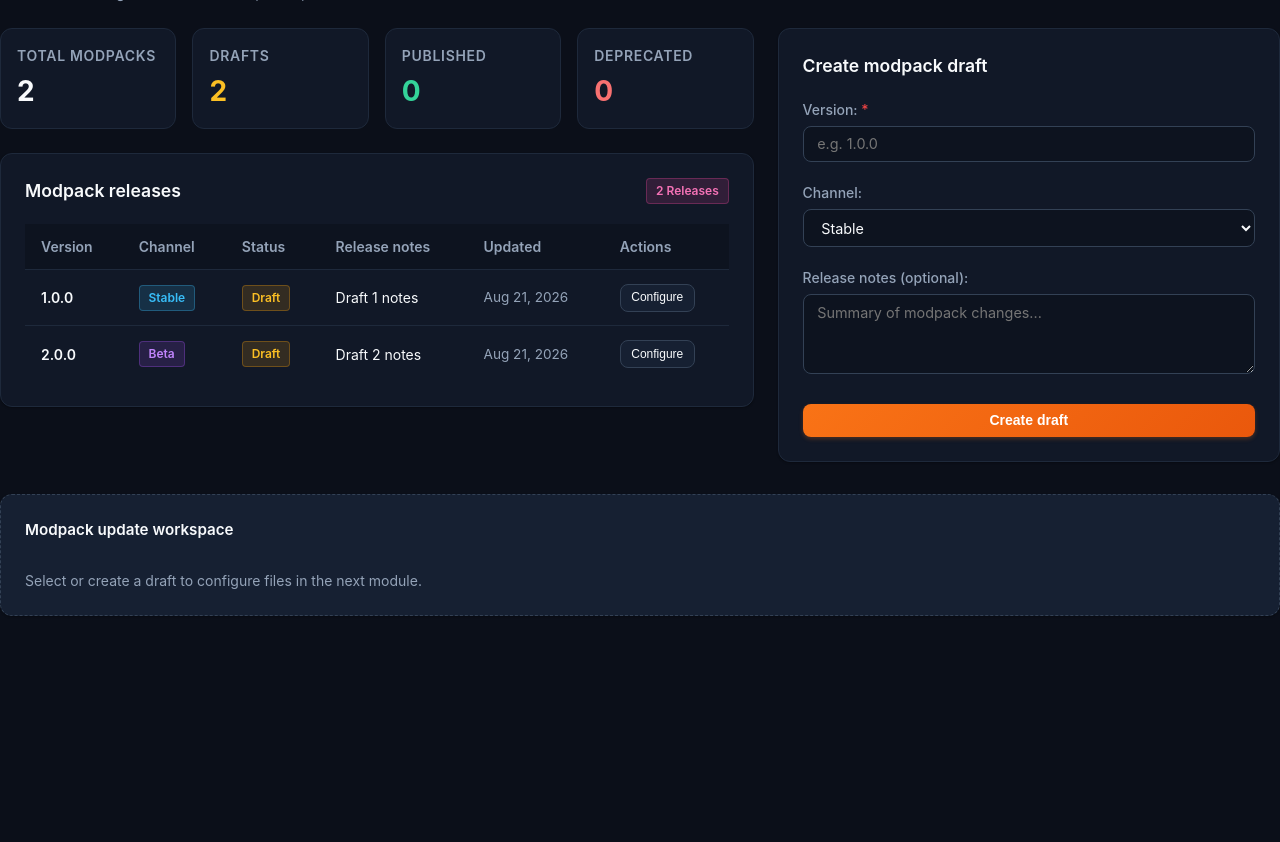
Test: Modpack Publish & GitHub Integration UI Functional Tests (Module 3B-2) › 9. Late response from another release does not alter currently selected release
Expected: the button with test id "configure-modpack-modpack-draft-2" is shown, top-left (620, 340), bottom-right (695, 368)
Select Draft 1 (validation will be pending)
Click the button with test id "configure-modpack-modpack-draft-1".
click(657, 298)  # box top-left (620, 284), bottom-right (695, 312)
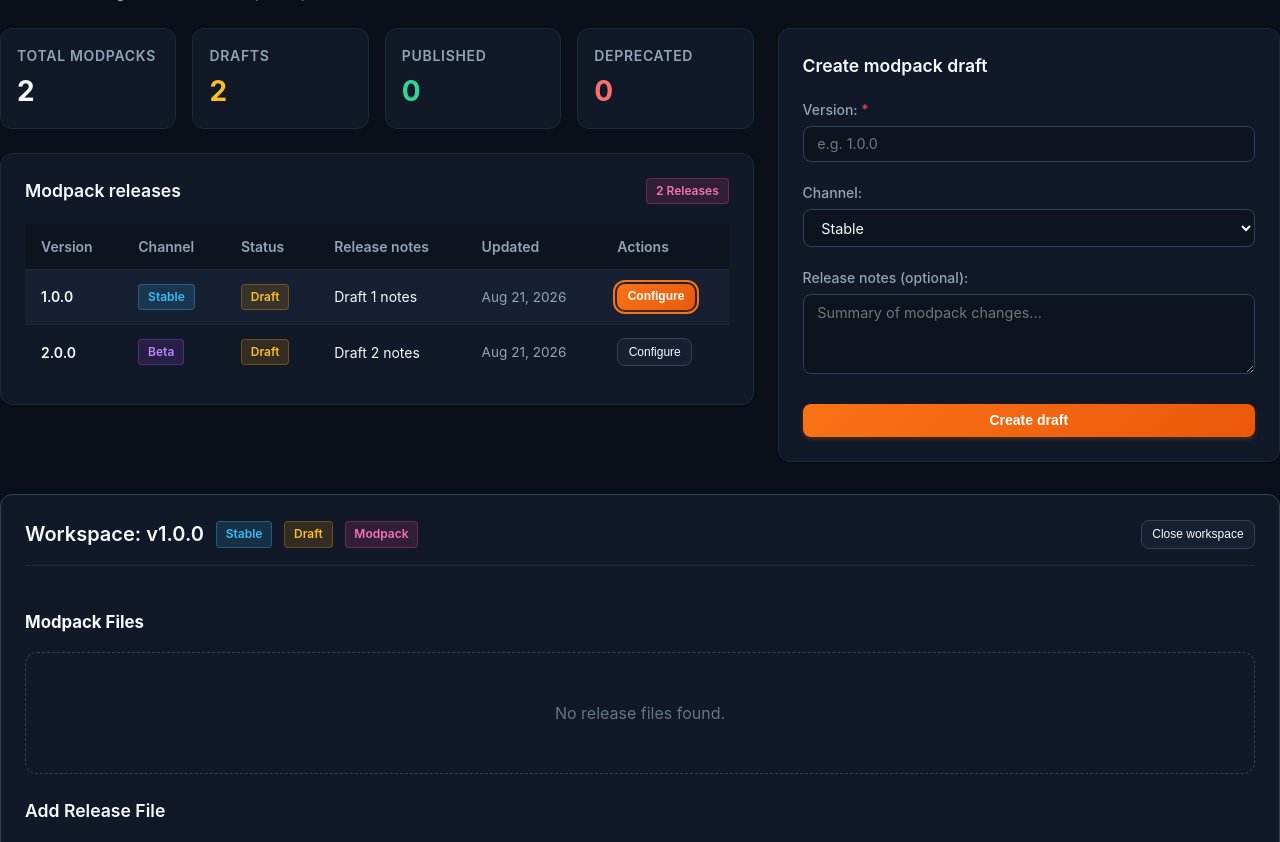
Now the heading "Workspace: v1.0.0" is shown, box top-left (25, 520), bottom-right (204, 550)
Switch to Draft 2 before Draft 1 validation resolves
Click the button with test id "configure-modpack-modpack-draft-2".
click(655, 352)  # box top-left (617, 338), bottom-right (692, 366)
(page scrolled)
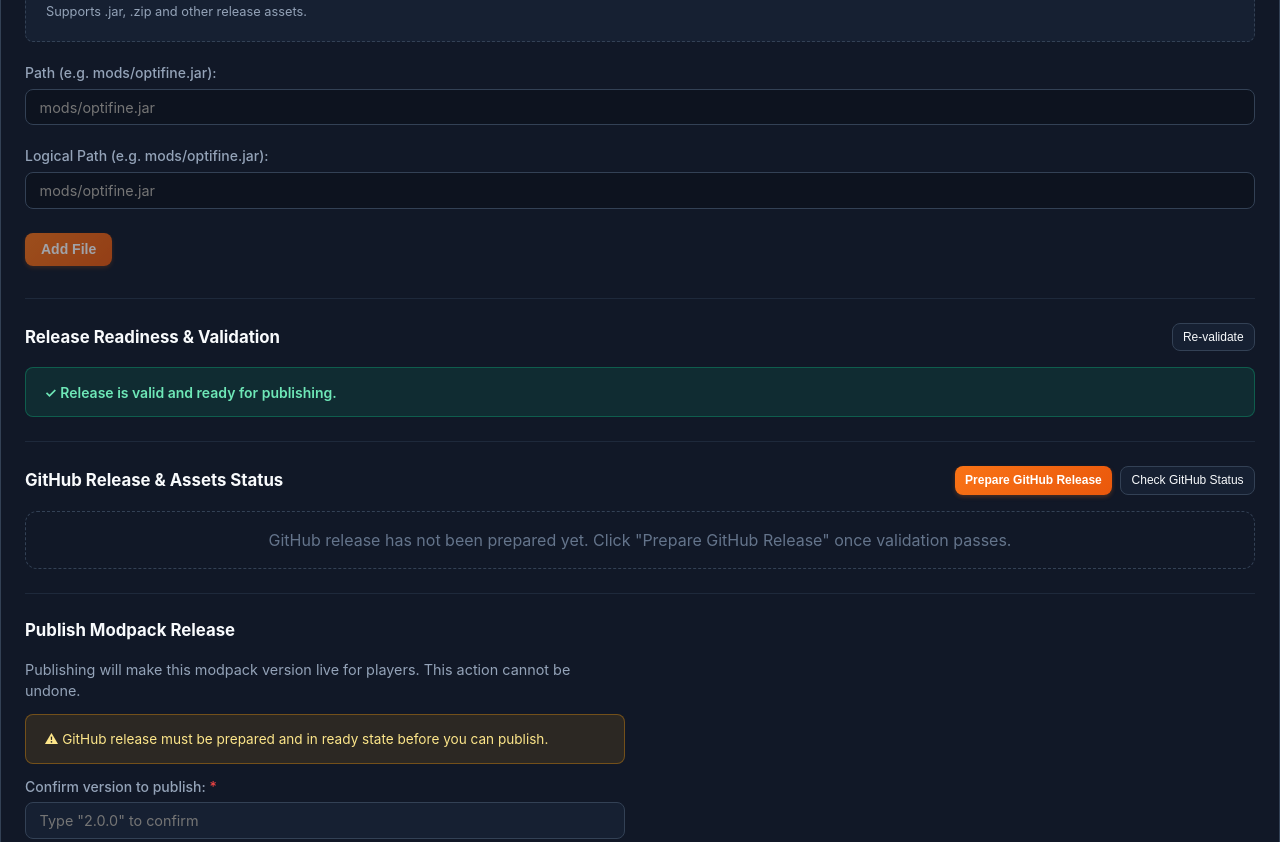
Now the text "✓ Release is valid and ready for publishing." is shown, box top-left (25, 367), bottom-right (1255, 418)
